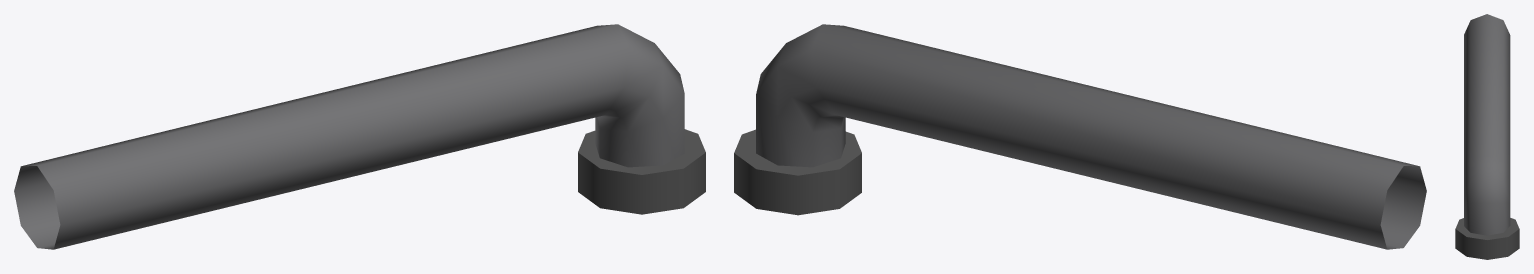
File: Pipe_1_B_2_2.fbx
3 renders of one model, left to right at view 1: azimuth 30°, elevation 25°; view 2: azimuth 150°, elevation 25°; view 3: azimuth 270°, elevation 25°, orthographic. The views are drawn at different scales.
Parts seen in each view (by area): view 1: Pipe_1_B_2_2; view 2: Pipe_1_B_2_2; view 3: Pipe_1_B_2_2.
Boxes of the visible parts, x1,y1,x2,y2 form: Pipe_1_B_2_2: (14,24,705,249); Pipe_1_B_2_2: (734,24,1426,249); Pipe_1_B_2_2: (1455,14,1519,259).
Size of the model in its own units: 180 by 43.92 by 30.12.
